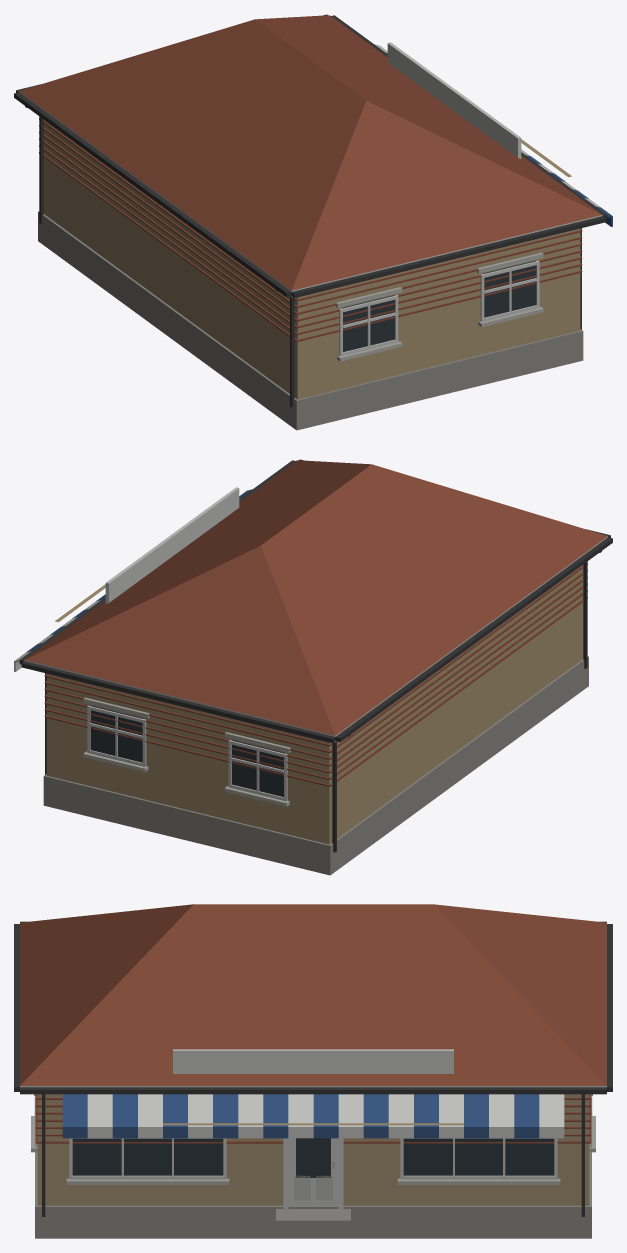
Rendered from SM_Prop_cafe_building_12.glb.
3 views of the same model, one above another, from view 1: azimuth 30°, elevation 25°; view 2: azimuth 150°, elevation 25°; view 3: azimuth 270°, elevation 25° (orthographic). The views are drawn at different scales.
Parts seen in each view (by area): view 1: SM_Prop_cafe_building_12; view 2: SM_Prop_cafe_building_12; view 3: SM_Prop_cafe_building_12.
Boxes of the visible parts, x1,y1,x2,y2 form: SM_Prop_cafe_building_12: (14, 14, 612, 430); SM_Prop_cafe_building_12: (14, 459, 612, 875); SM_Prop_cafe_building_12: (14, 904, 612, 1238).
Size of the model in its own units: 8.72 by 5.7 by 11.94.
